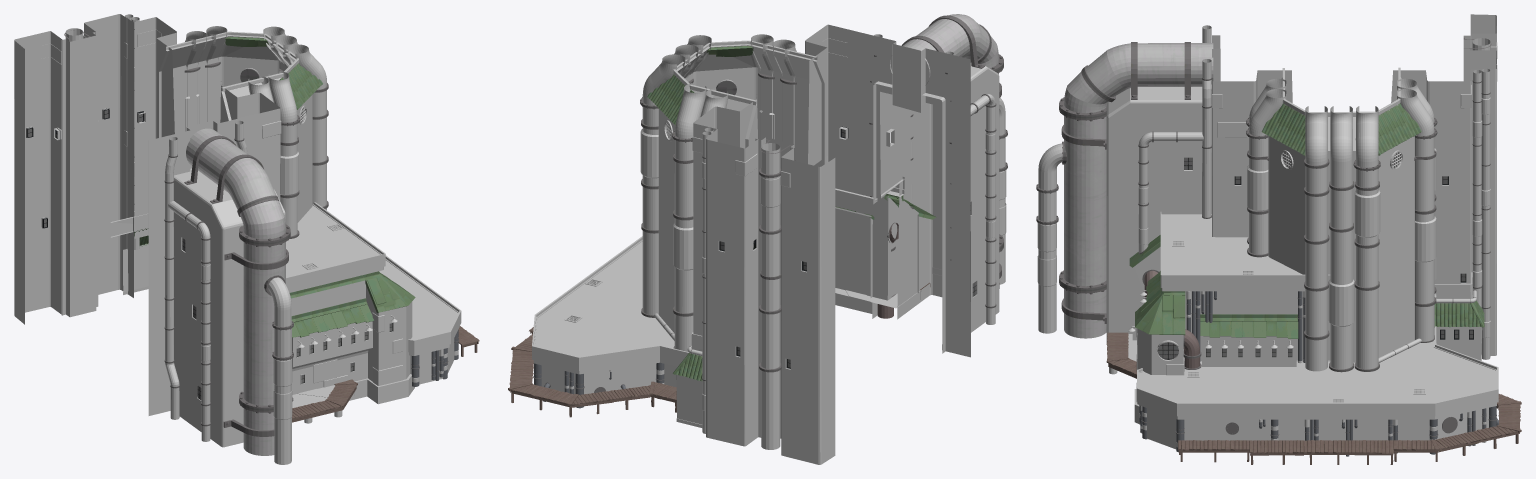
Rendered from AreaD_Building_Aa.fbx.
3 renders of one model, left to right at view 1: azimuth 30°, elevation 25°; view 2: azimuth 150°, elevation 25°; view 3: azimuth 270°, elevation 25°, orthographic. The views are drawn at different scales.
Parts seen in each view (by area): view 1: SM_ENV_AMVLLG02_AreaD_Building_Aa.mo; view 2: SM_ENV_AMVLLG02_AreaD_Building_Aa.mo; view 3: SM_ENV_AMVLLG02_AreaD_Building_Aa.mo.
Part boxes in pixels (bbox=[...]): SM_ENV_AMVLLG02_AreaD_Building_Aa.mo: bbox=[14, 14, 479, 464]; SM_ENV_AMVLLG02_AreaD_Building_Aa.mo: bbox=[508, 14, 1007, 464]; SM_ENV_AMVLLG02_AreaD_Building_Aa.mo: bbox=[1036, 14, 1521, 464].
Bounding box in the file's own units: 4061 × 3492 × 5102.
